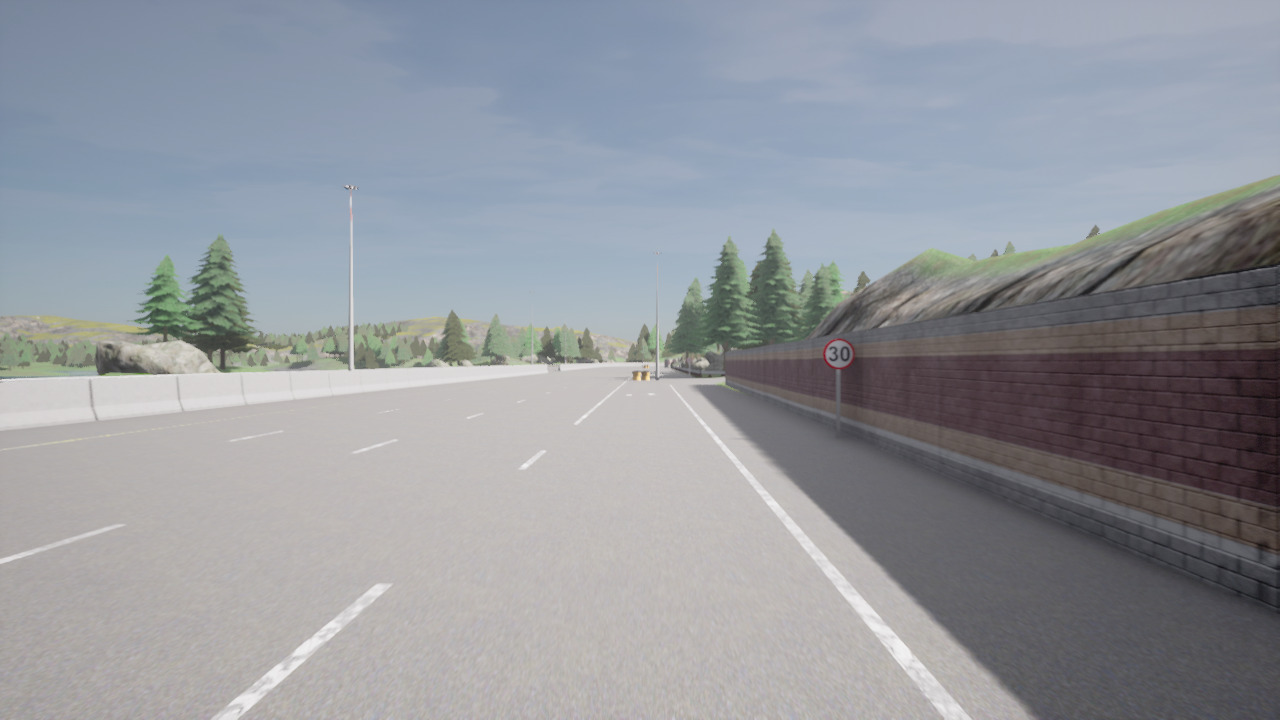sl30: (821, 337, 856, 370)
